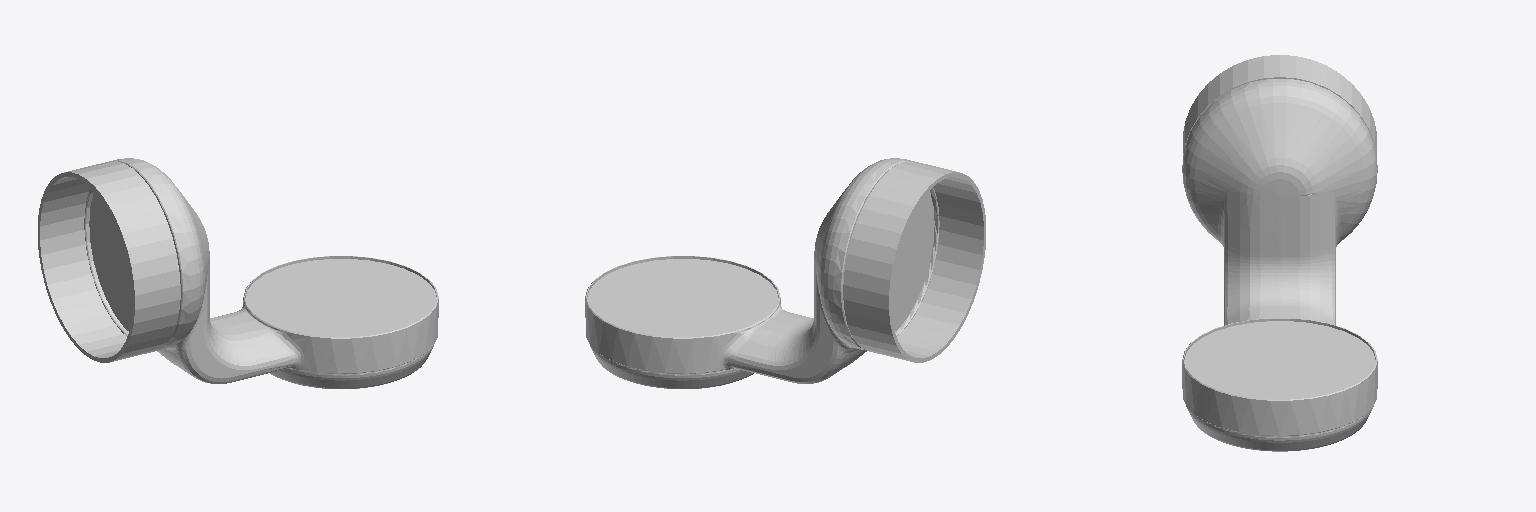
Rendered from forearm_roll_link.obj.
3 views of the same model, side by side, from view 1: azimuth 30°, elevation 25°; view 2: azimuth 150°, elevation 25°; view 3: azimuth 270°, elevation 25° (orthographic).
Parts seen in each view (by area): view 1: obj1; view 2: obj1; view 3: obj1.
Part boxes in pixels (left/top/right/bottom): obj1: left=38, top=158, right=438, bottom=388; obj1: left=585, top=158, right=985, bottom=388; obj1: left=1182, top=55, right=1377, bottom=451.
Size of the model in its own units: 0.2085 by 0.139 by 0.104.